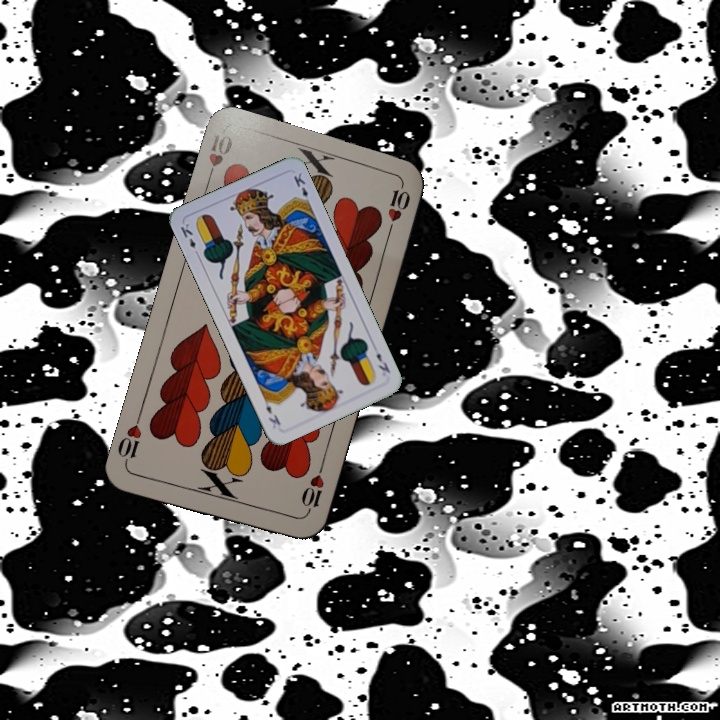EK: (176, 219, 202, 259), (372, 349, 393, 376)
H10: (201, 127, 236, 187), (297, 461, 327, 519)
